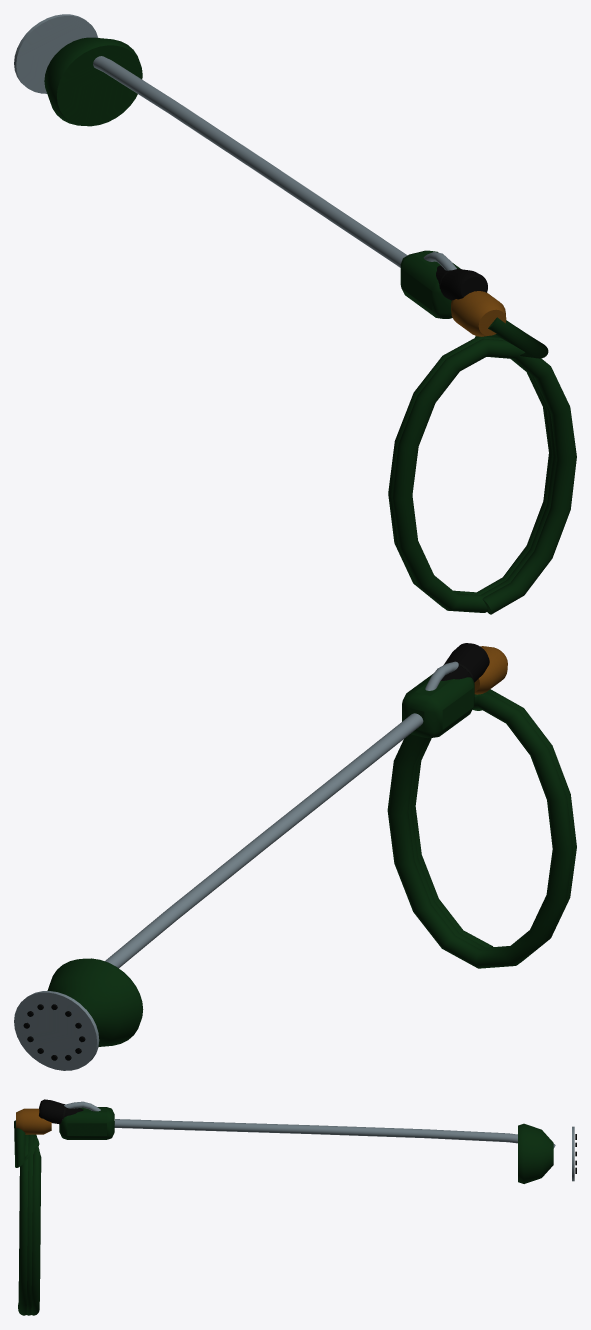
Rendered from GardenHoseWand.gltf.
The picture shows the model from 3 angles, top to bottom: view 1: azimuth 30°, elevation 25°; view 2: azimuth 150°, elevation 25°; view 3: azimuth 270°, elevation 25°; orthographic projection. The views are drawn at different scales.
Parts seen in each view (by area): view 1: GardenHoseWand__Body; view 2: GardenHoseWand__Body; view 3: GardenHoseWand__Body.
Part boxes in pixels (x1=…): GardenHoseWand__Body: x1=14, y1=14, x2=576, y2=614; GardenHoseWand__Body: x1=14, y1=643, x2=576, y2=1070; GardenHoseWand__Body: x1=14, y1=1099, x2=576, y2=1315.
Bounding box in the file's own units: 0.1984 × 0.3453 × 0.8357.
1 material, 1 textured.
